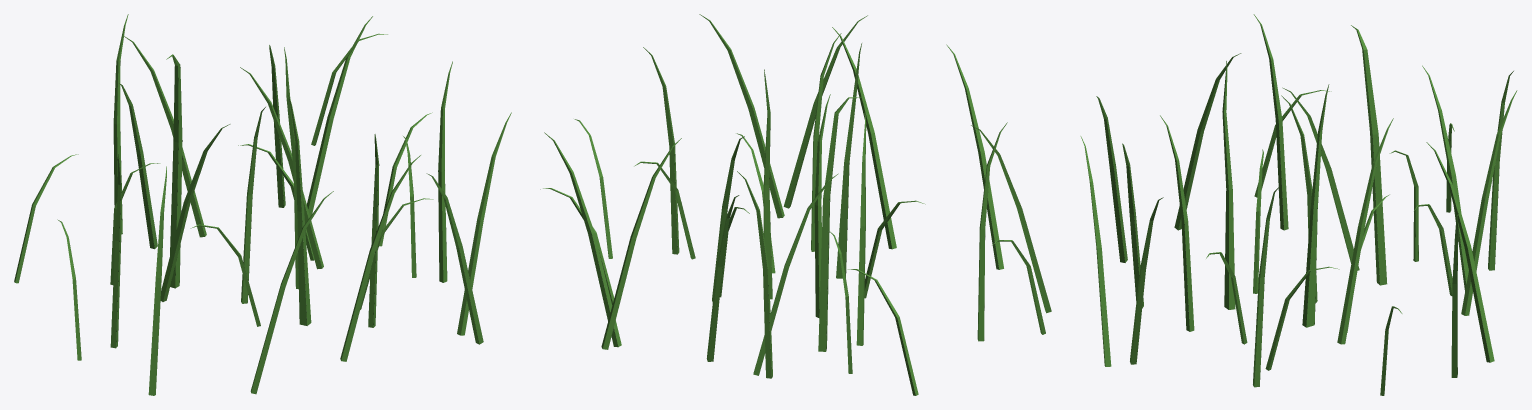
File: gras.fbx
3 views of the same model, side by side, from view 1: azimuth 30°, elevation 25°; view 2: azimuth 150°, elevation 25°; view 3: azimuth 270°, elevation 25° (orthographic).
Visible parts, largest first — view 1: Cube.001; view 2: Cube.001; view 3: Cube.001.
Part boxes in pixels (x1=…): Cube.001: x1=14, y1=14, x2=511, y2=395; Cube.001: x1=540, y1=14, x2=1051, y2=395; Cube.001: x1=1080, y1=14, x2=1517, y2=395.
Size of the model in its own units: 1372 by 782 by 1199.
